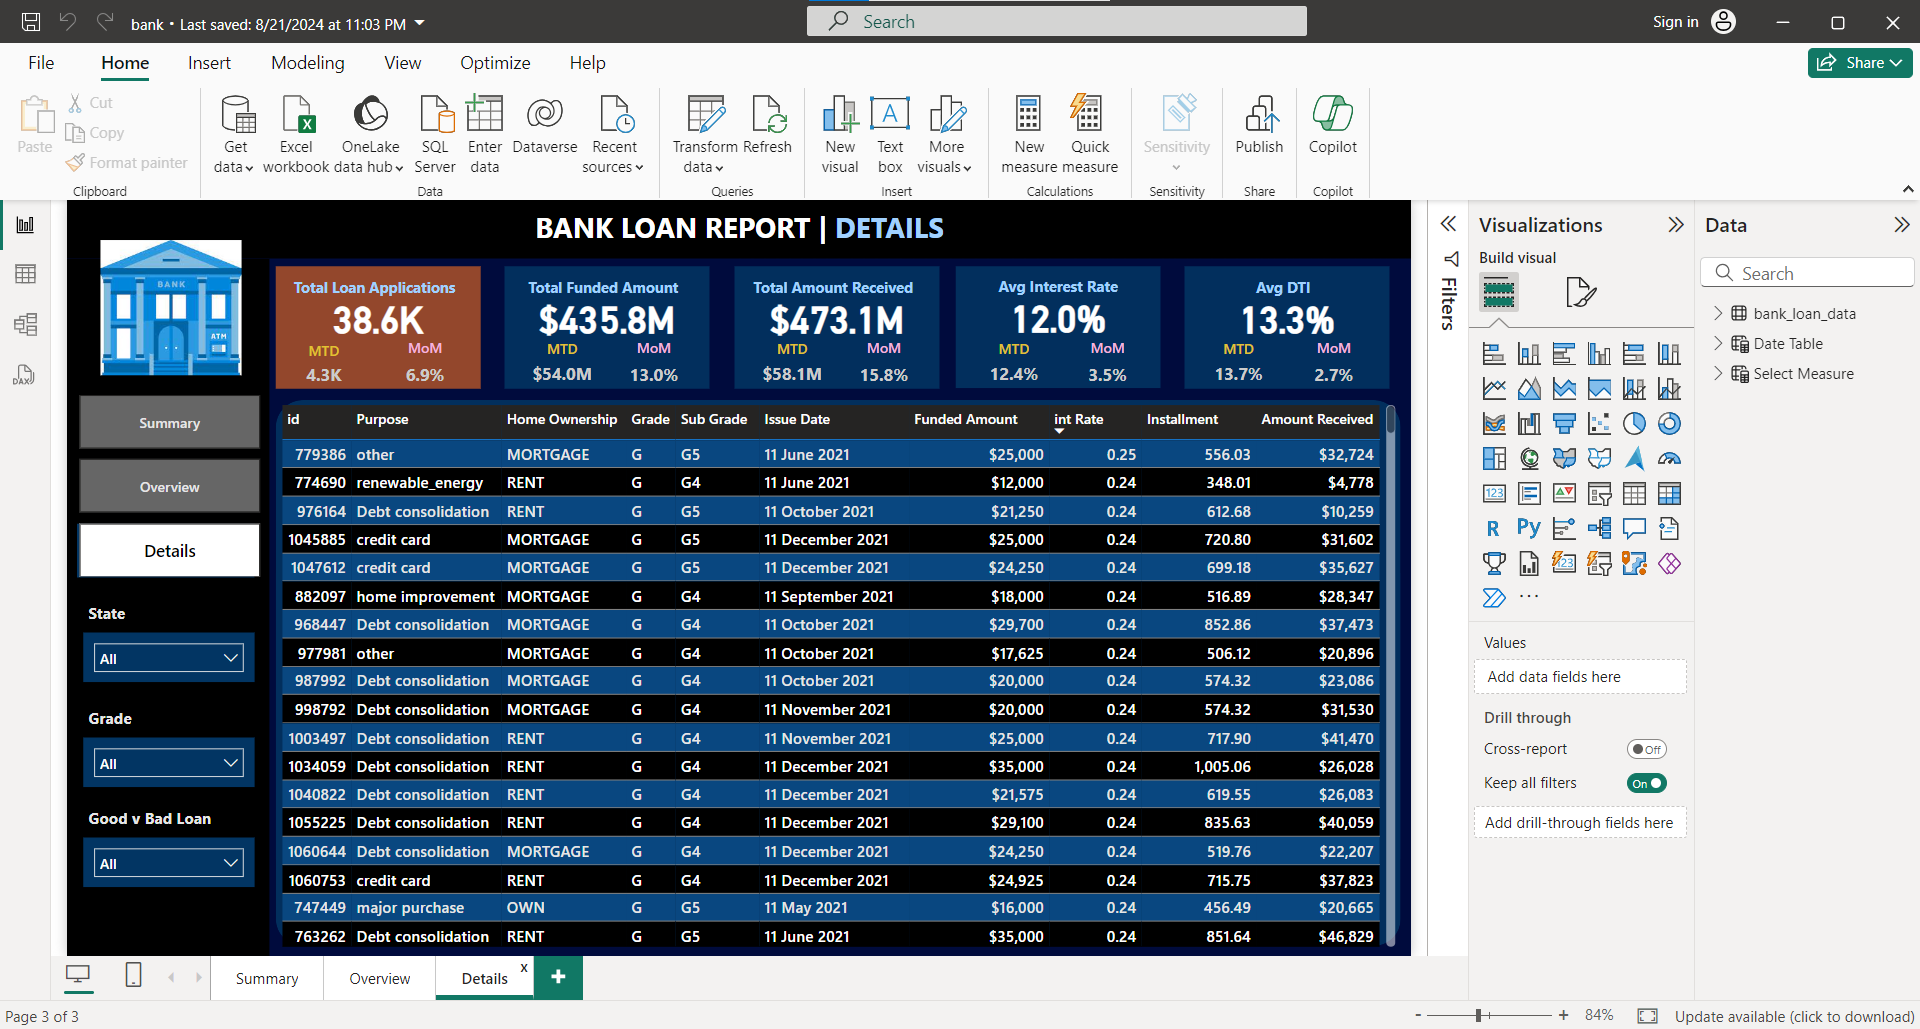

This screenshot's page, from the dashboard's own definition file:
{"tool":"powerbi","page":{"name":"Details","canvas":[1280,720],"ordinal":2},"visuals":[{"type":"shape","box":[0,55.7,192.9,664.3],"z":0},{"type":"shape","box":[846.4,63.1,195,116],"z":0,"group":"g9"},{"type":"card","fields":{"Values":["bank_loan_data.Total Loan Applications"]},"box":[209.6,69.1,173.8,84.5],"z":0,"group":"g2"},{"type":"card","fields":{"Values":["bank_loan_data.Total Funded Amount"]},"box":[427.8,69.1,173.8,84.5],"z":0,"group":"g3"},{"type":"card","fields":{"Values":["bank_loan_data.Total Amount Recieved"]},"box":[646,69.1,173.8,84.5],"z":0,"group":"g4"},{"type":"card","fields":{"Values":["bank_loan_data.Avg DTI"]},"box":[1075,69.1,173.8,84.5],"z":0,"group":"g5"},{"type":"shape","box":[0,0,1280,55.7],"z":1000},{"type":"card","fields":{"Values":["bank_loan_data.Avg Interest Rate"]},"box":[863.1,65.5,161.9,89.5],"z":1000,"group":"g9"},{"type":"textbox","box":[191.7,69.1,202.4,32.1],"z":1000,"group":"g2"},{"type":"textbox","box":[409.9,69.1,202.4,32.1],"z":1000,"group":"g3"},{"type":"textbox","box":[628.1,69.1,202.4,32.1],"z":1000,"group":"g4"},{"type":"textbox","box":[1057.1,69.1,202.4,32.1],"z":1000,"group":"g5"},{"type":"card","title":"MTD","fields":{"Values":["bank_loan_data.MTD Funded Amount"]},"box":[438.6,132.7,67.2,53.5],"z":2000,"group":"g3"},{"type":"card","title":"MTD","fields":{"Values":["bank_loan_data.MTD Recieved Amount"]},"box":[656.8,132.7,67.2,53.5],"z":2000,"group":"g4"},{"type":"card","title":"MTD","fields":{"Values":["bank_loan_data.MTD Avg DTI"]},"box":[1082.4,132.7,67.2,53.5],"z":2000,"group":"g5"},{"type":"card","title":"MTD","fields":{"Values":["bank_loan_data.MTD Loan Applications"]},"box":[221.5,134.6,46.4,51.2],"z":2000,"group":"g2"},{"type":"textbox","box":[15.7,378.6,57.1,32.9],"z":2000},{"type":"textbox","box":[363.8,2.4,552.4,52.4],"z":3000},{"type":"shape","box":[198.8,63.1,195.2,116.7],"z":3000,"group":"g1"},{"type":"shape","box":[417,63.1,195.2,116.7],"z":3000,"group":"g6"},{"type":"shape","box":[635.2,63.1,195.2,116.7],"z":3000,"group":"g7"},{"type":"shape","box":[1064.2,63.1,195.2,116.7],"z":3000,"group":"g8"},{"type":"textbox","box":[867.8,67.8,152.4,31.8],"z":3000,"group":"g9"},{"type":"card","title":"MoM","fields":{"Values":["bank_loan_data.MoM Loan Applications"]},"box":[307.2,131,67.9,58.3],"z":3000,"group":"g2"},{"type":"card","title":"MoM","fields":{"Values":["bank_loan_data.MoM Total Funded Amount"]},"box":[525.4,131,67.9,58.3],"z":3000,"group":"g3"},{"type":"card","title":"MoM","fields":{"Values":["bank_loan_data.MoM Total Recieced Amount"]},"box":[743.6,131,67.9,58.3],"z":3000,"group":"g4"},{"type":"card","title":"MoM","fields":{"Values":["bank_loan_data.MoM DTI"]},"box":[1172.6,131,67.9,58.3],"z":3000,"group":"g5"},{"type":"group","id":"g1","title":"Group 2","box":[191.7,63.1,202.4,126.2],"z":4000},{"type":"group","id":"g2","title":"Group 1","box":[191.7,69.1,202.4,120.2],"z":4004,"group":"g1"},{"type":"group","id":"g3","title":"Group 1","box":[409.9,69.1,202.4,120.2],"z":4004,"group":"g6"},{"type":"group","id":"g4","title":"Group 1","box":[628.1,69.1,202.4,120.2],"z":4004,"group":"g7"},{"type":"group","id":"g5","title":"Group 1","box":[1057.1,69.1,202.4,120.2],"z":4004,"group":"g8"},{"type":"group","id":"g6","title":"Group 2","box":[409.9,63.1,202.4,126.2],"z":5000},{"type":"card","title":"MTD","fields":{"Values":["bank_loan_data.MTD Interest Rate"]},"box":[867.8,132.6,67.9,53],"z":5000,"group":"g9"},{"type":"group","id":"g7","title":"Group 2","box":[628.1,63.1,202.4,126.2],"z":6000},{"type":"group","id":"g8","title":"Group 2","box":[1057.1,63.1,202.4,126.2],"z":7000},{"type":"card","title":"MoM","fields":{"Values":["bank_loan_data.MoM Avg Interest Rate"]},"box":[957.1,131.4,67.9,57.7],"z":7000,"group":"g9"},{"type":"group","id":"g9","title":"Group 3","box":[846.4,63.1,195.2,126.2],"z":8000},{"type":"slicer","fields":{"Values":["bank_loan_data.address_state"]},"box":[15.7,411.4,162.9,47.1],"z":9000},{"type":"slicer","fields":{"Values":["bank_loan_data.grade"]},"box":[15.7,511.4,162.9,47.1],"z":10000},{"type":"textbox","box":[15.7,478.6,70,32.9],"z":11000},{"type":"slicer","fields":{"Values":["bank_loan_data.Good v Bad Loan"]},"box":[15.7,607.1,162.9,47.1],"z":12000},{"type":"textbox","box":[15.5,573.8,163.1,33.3],"z":13000},{"type":"slicer","fields":{"Values":["Select Measure.Select Measure"]},"box":[10,308.6,168.6,51.4],"z":15000},{"type":"textbox","box":[9.5,276.2,135.7,32.1],"z":16000},{"type":"shape","box":[198.6,190,1071.4,520],"z":16001},{"type":"tableEx","fields":{"Values":["bank_loan_data.id","bank_loan_data.purpose","bank_loan_data.home_ownership","bank_loan_data.grade","bank_loan_data.sub_grade","bank_loan_data.issue_date","bank_loan_data.Total Funded Amount","Sum(bank_loan_data.int_rate)","Sum(bank_loan_data.installment)","bank_loan_data.Total Amount Recieved"]},"box":[198.6,190,1071.4,525.7],"z":16002},{"type":"pageNavigator","box":[11.4,185.7,172.9,174.3],"z":16003},{"type":"image","box":[17.1,32.9,164.3,138.6],"z":16004}]}

Visuals, with their boxes on the page's 1280x720 design canvas (x1, y1, x2, y2). These are canvas units, not pixel positions in the 1920x1029 screenshot, which may show the page scaled, cropped or inside an application window:
shape: [x1=0, y1=56, x2=193, y2=720]
shape: [x1=846, y1=63, x2=1041, y2=179]
card - bank_loan_data.Total Loan Applications: [x1=210, y1=69, x2=383, y2=154]
card - bank_loan_data.Total Funded Amount: [x1=428, y1=69, x2=602, y2=154]
card - bank_loan_data.Total Amount Recieved: [x1=646, y1=69, x2=820, y2=154]
card - bank_loan_data.Avg DTI: [x1=1075, y1=69, x2=1249, y2=154]
shape: [x1=0, y1=0, x2=1280, y2=56]
card - bank_loan_data.Avg Interest Rate: [x1=863, y1=66, x2=1025, y2=155]
textbox: [x1=192, y1=69, x2=394, y2=101]
textbox: [x1=410, y1=69, x2=612, y2=101]
textbox: [x1=628, y1=69, x2=830, y2=101]
textbox: [x1=1057, y1=69, x2=1260, y2=101]
"MTD" card: [x1=439, y1=133, x2=506, y2=186]
"MTD" card: [x1=657, y1=133, x2=724, y2=186]
"MTD" card: [x1=1082, y1=133, x2=1150, y2=186]
"MTD" card: [x1=222, y1=135, x2=268, y2=186]
textbox: [x1=16, y1=379, x2=73, y2=412]
textbox: [x1=364, y1=2, x2=916, y2=55]
shape: [x1=199, y1=63, x2=394, y2=180]
shape: [x1=417, y1=63, x2=612, y2=180]
shape: [x1=635, y1=63, x2=830, y2=180]
shape: [x1=1064, y1=63, x2=1259, y2=180]
textbox: [x1=868, y1=68, x2=1020, y2=100]
"MoM" card: [x1=307, y1=131, x2=375, y2=189]
"MoM" card: [x1=525, y1=131, x2=593, y2=189]
"MoM" card: [x1=744, y1=131, x2=812, y2=189]
"MoM" card: [x1=1173, y1=131, x2=1240, y2=189]
"Group 2" group: [x1=192, y1=63, x2=394, y2=189]
"Group 1" group: [x1=192, y1=69, x2=394, y2=189]
"Group 1" group: [x1=410, y1=69, x2=612, y2=189]
"Group 1" group: [x1=628, y1=69, x2=830, y2=189]
"Group 1" group: [x1=1057, y1=69, x2=1260, y2=189]
"Group 2" group: [x1=410, y1=63, x2=612, y2=189]
"MTD" card: [x1=868, y1=133, x2=936, y2=186]
"Group 2" group: [x1=628, y1=63, x2=830, y2=189]
"Group 2" group: [x1=1057, y1=63, x2=1260, y2=189]
"MoM" card: [x1=957, y1=131, x2=1025, y2=189]
"Group 3" group: [x1=846, y1=63, x2=1042, y2=189]
slicer - bank_loan_data.address_state: [x1=16, y1=411, x2=179, y2=458]
slicer - bank_loan_data.grade: [x1=16, y1=511, x2=179, y2=558]
textbox: [x1=16, y1=479, x2=86, y2=512]
slicer - bank_loan_data.Good v Bad Loan: [x1=16, y1=607, x2=179, y2=654]
textbox: [x1=16, y1=574, x2=179, y2=607]
slicer - Select Measure.Select Measure: [x1=10, y1=309, x2=179, y2=360]
textbox: [x1=10, y1=276, x2=145, y2=308]
shape: [x1=199, y1=190, x2=1270, y2=710]
tableEx - bank_loan_data.id x bank_loan_data.purpose: [x1=199, y1=190, x2=1270, y2=716]
pageNavigator: [x1=11, y1=186, x2=184, y2=360]
image: [x1=17, y1=33, x2=181, y2=172]
